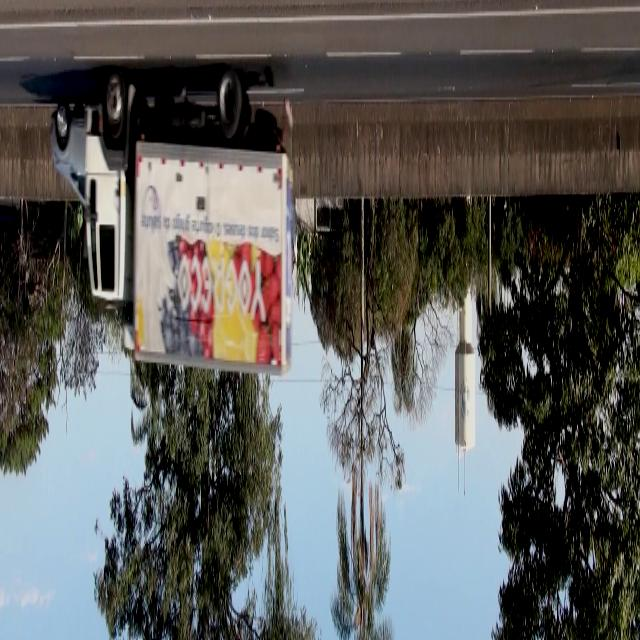-axle: (215, 56, 246, 136), (99, 60, 127, 138)
